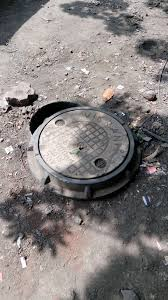manhole: (15, 88, 151, 216)
